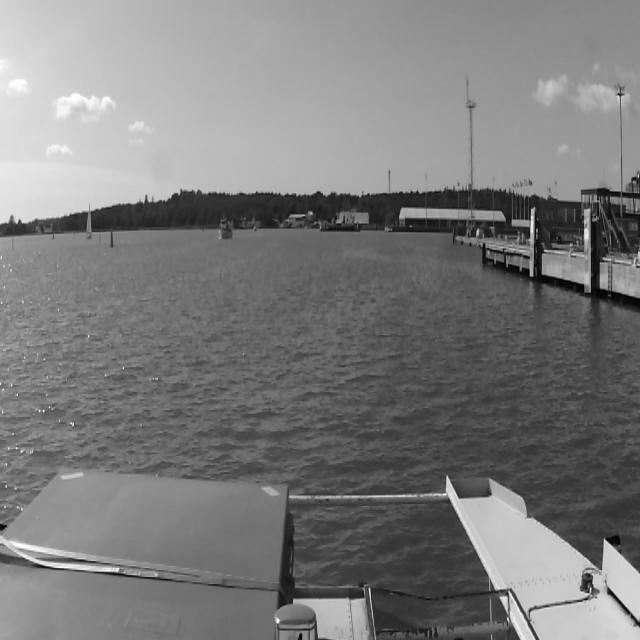buoy: (109, 224, 115, 248), (52, 228, 54, 241), (99, 232, 101, 243)
ship: (217, 216, 234, 243), (85, 202, 94, 242), (253, 226, 257, 234)
